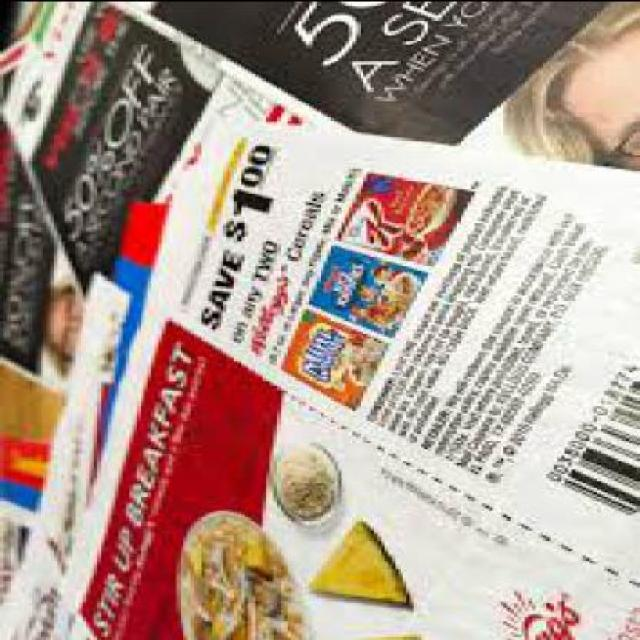PAPER: (50, 122, 636, 640), (0, 2, 298, 314), (141, 2, 636, 172), (0, 36, 86, 396), (0, 362, 62, 532), (1, 532, 50, 639)
